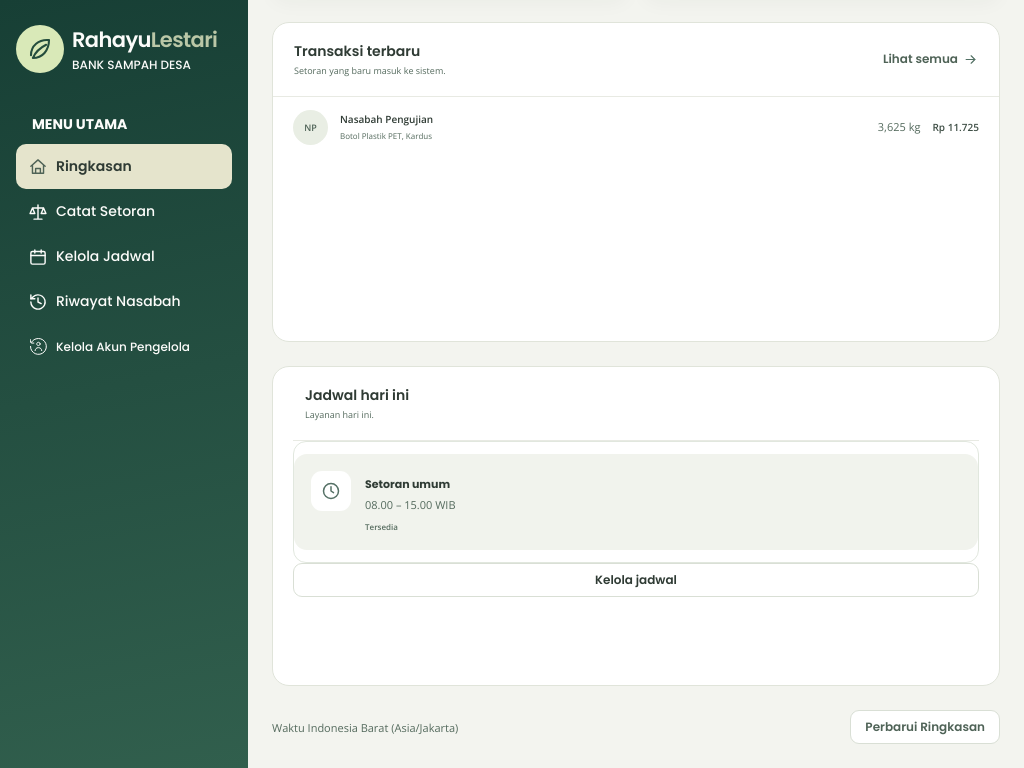
shared pengelola dashboard › late summary after logout is aborted and never rendered or restored
(page scrolled)
Click the button "Perbarui Ringkasan": (925,727) [850, 710, 1000, 744]
(page scrolled)
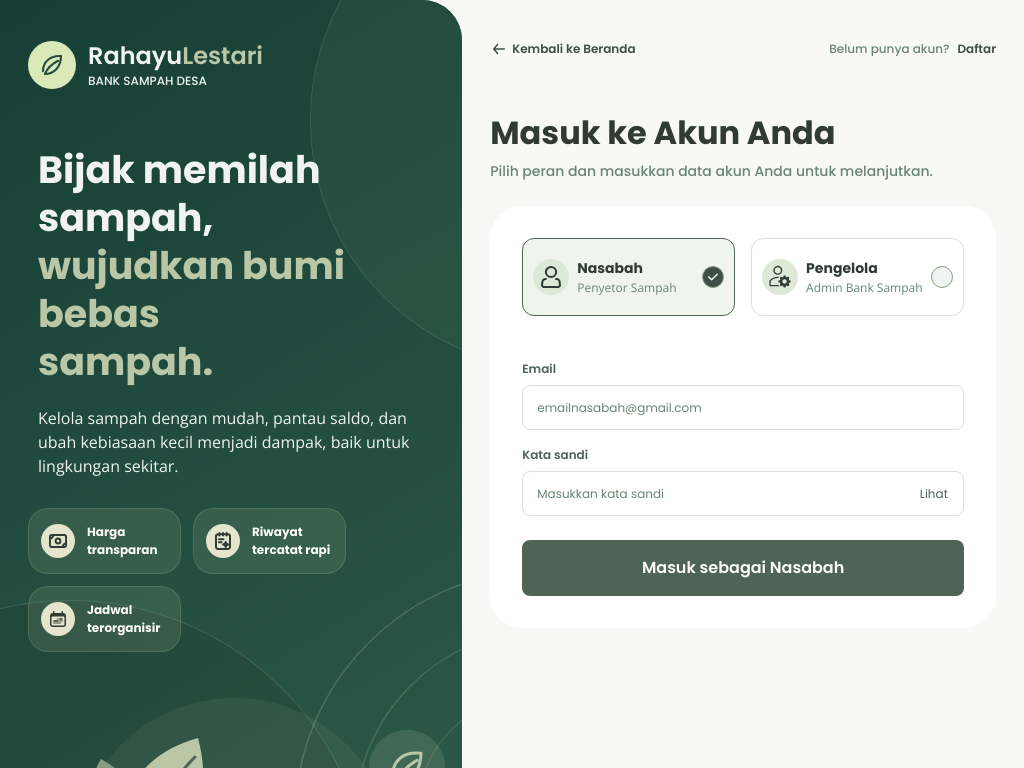
expect the field labelled "Email" is shown: met, box [522, 385, 964, 430]
